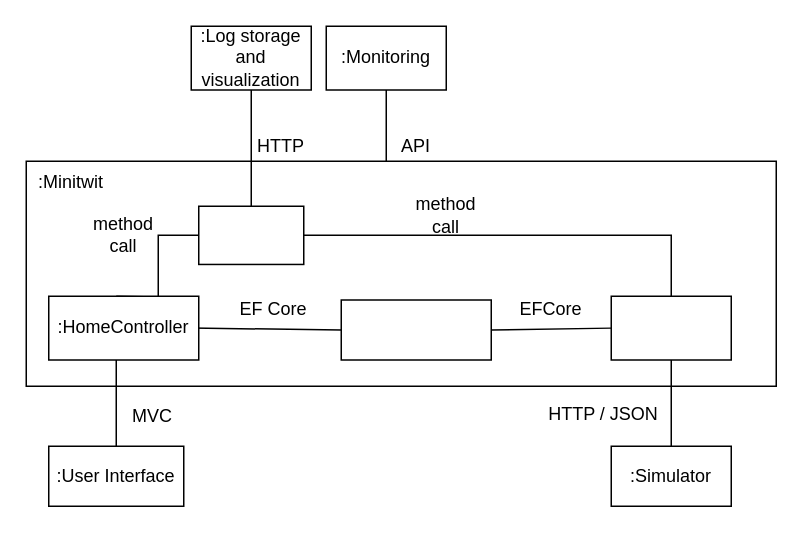
Image size: 803x533. Some labels were removed from this diagram. The box of each missing label's shape, as (x1, y1, x2, y2) in pixels:
:APIController: (610, 295, 731, 360)
:Logger: (197, 205, 304, 264)
:MVCDBContext: (340, 298, 491, 360)
